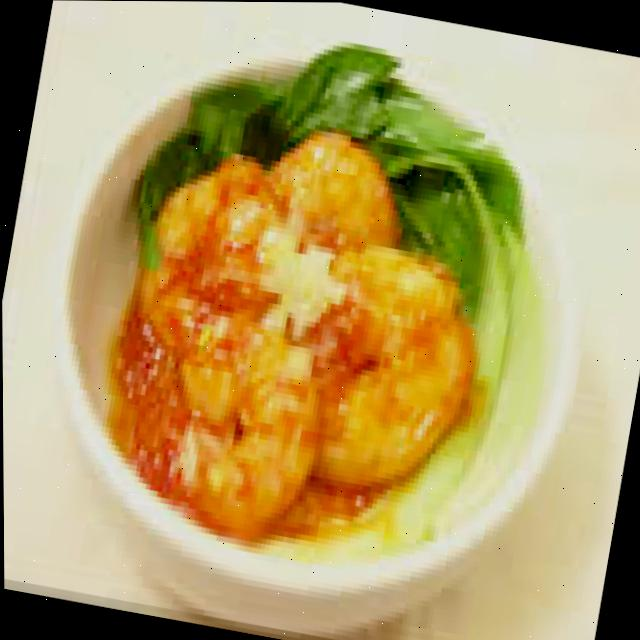熟制海鲜: (11, 2, 626, 640)
